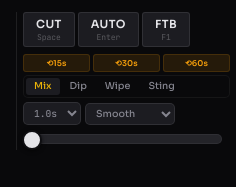
Test case: TransitionControls › Stinger upload and delete › renders upload button when stinger type selected
This screenshot has width=236, height=187.
Step 1. Click the radio button labelled "Sting" → click(162, 86), box [148,80,175,92]
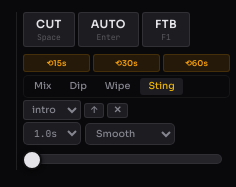
Expected: the button named "Upload stinger" is shown, [84,103,104,118]
